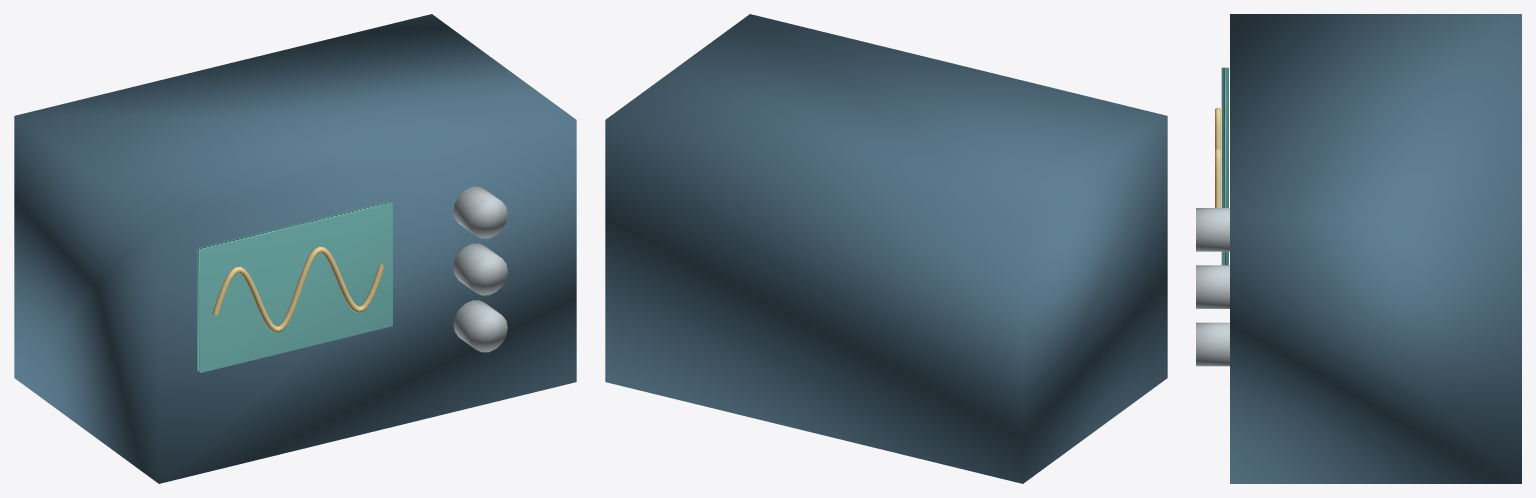
File: wave-generator-machine.glb
The picture shows the model from 3 angles, left to right: view 1: azimuth 30°, elevation 25°; view 2: azimuth 150°, elevation 25°; view 3: azimuth 270°, elevation 25°; orthographic projection.
Visible parts, largest first — view 1: case, display, sine_trace, knob_0, knob_2, knob_1; view 2: case; view 3: case, knob_0, knob_1, knob_2, display, sine_trace.
Part boxes in pixels (x1,y1,x2,y2): case: (14, 14, 576, 483); display: (197, 201, 392, 372); sine_trace: (212, 246, 384, 332); knob_0: (453, 300, 507, 352); knob_2: (453, 186, 507, 238); knob_1: (453, 243, 507, 295); case: (605, 14, 1167, 483); case: (1230, 14, 1521, 483); knob_0: (1196, 322, 1229, 366); knob_1: (1196, 265, 1229, 308); knob_2: (1196, 208, 1229, 251); display: (1221, 67, 1228, 265); sine_trace: (1215, 107, 1220, 207).
Size of the model in its own units: 1 by 0.6 by 0.67.
